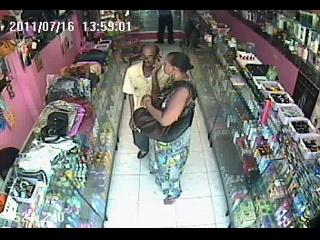Normal: (136, 51, 197, 206), (122, 43, 169, 154), (154, 10, 175, 44), (75, 50, 108, 65)
